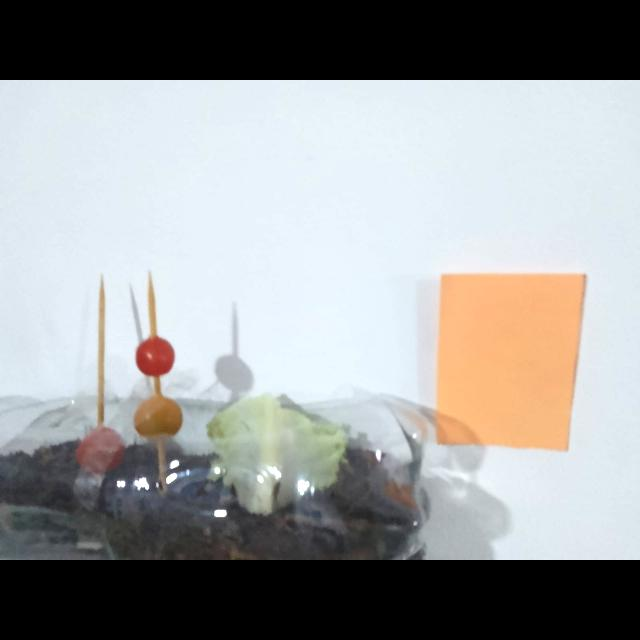card: (437, 274, 586, 449)
fruit_maturation: (76, 425, 124, 474), (133, 394, 183, 438)
fully_grown: (136, 335, 175, 377)
